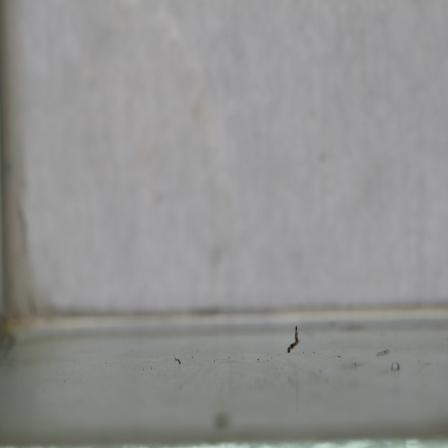Jentik-Nyamuk: (281, 323, 304, 358)
